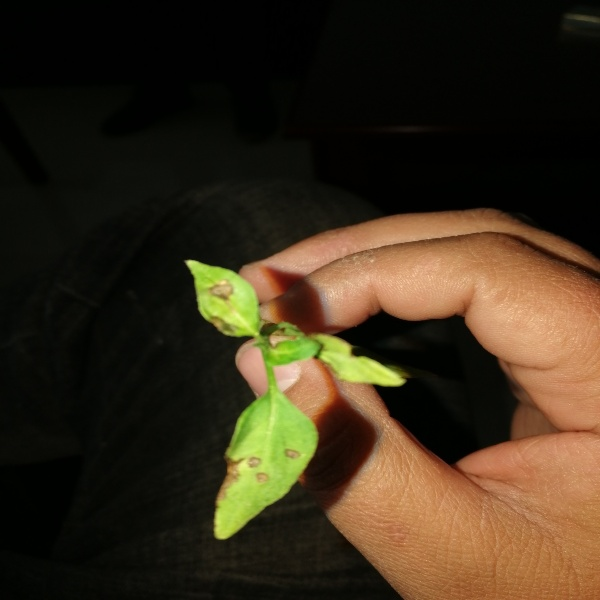Anthrax: (215, 449, 301, 501), (195, 277, 245, 334)
